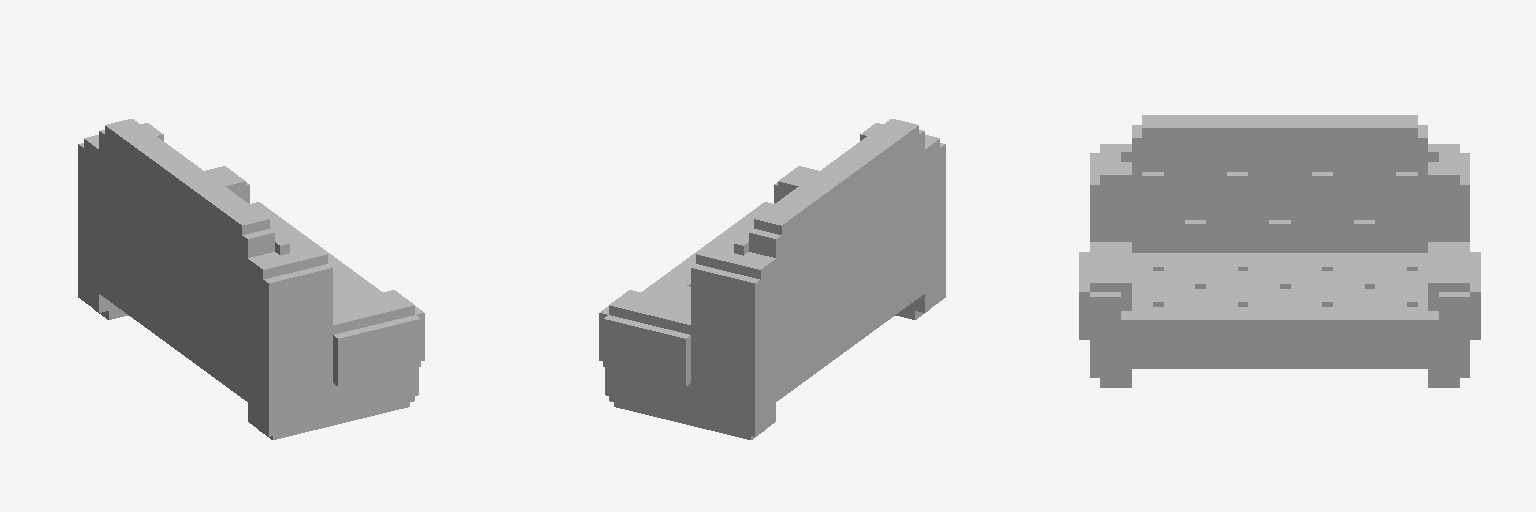
The model's file is sofa.vox.obj.
3 renders of one model, left to right at view 1: azimuth 30°, elevation 25°; view 2: azimuth 150°, elevation 25°; view 3: azimuth 270°, elevation 25°, orthographic.
Visible parts, largest first — view 1: object 1; view 2: object 1; view 3: object 1.
Boxes of the visible parts, box(x1,y1,x2,y2) form: object 1: box(78, 119, 424, 439); object 1: box(599, 119, 945, 439); object 1: box(1079, 115, 1480, 387).
Size of the model in its own units: 1.8 by 2.1 by 3.8.